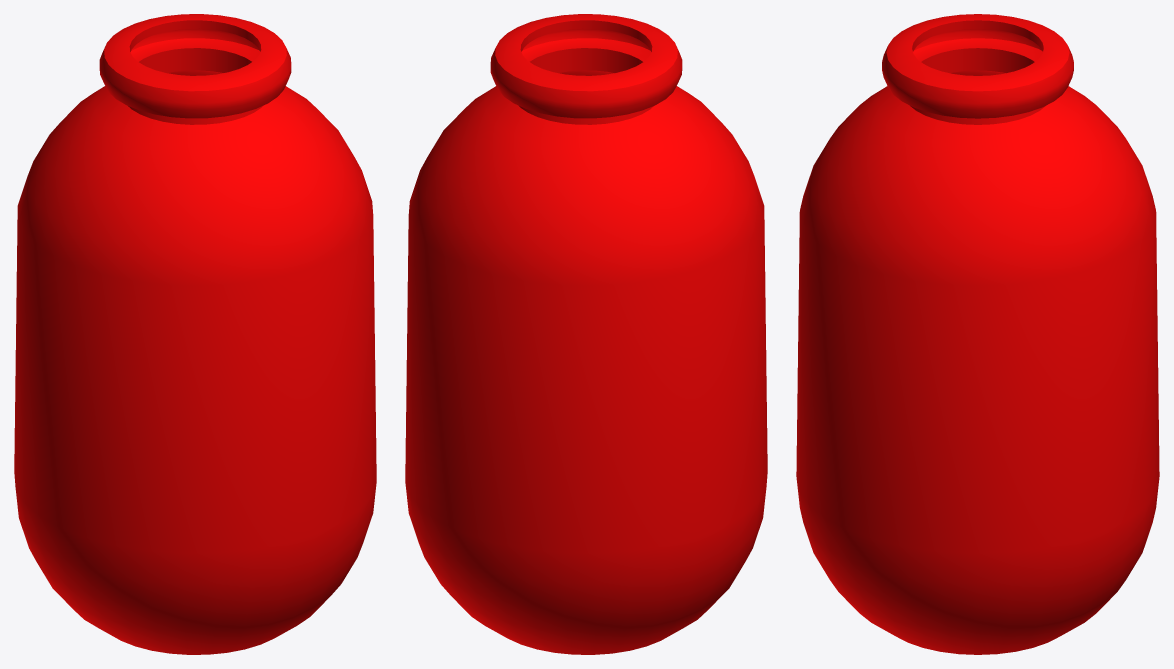
The model's file is LabProp07.fbx.
The picture shows the model from 3 angles, left to right: view 1: azimuth 30°, elevation 25°; view 2: azimuth 150°, elevation 25°; view 3: azimuth 270°, elevation 25°; orthographic projection.
Parts seen in each view (by area): view 1: LabProp07; view 2: LabProp07; view 3: LabProp07.
Part boxes in pixels (left/top/right/bottom): LabProp07: left=14, top=14, right=376, bottom=654; LabProp07: left=405, top=14, right=767, bottom=654; LabProp07: left=796, top=14, right=1159, bottom=654.
Bounding box in the file's own units: 25.94 × 44.57 × 25.94.
